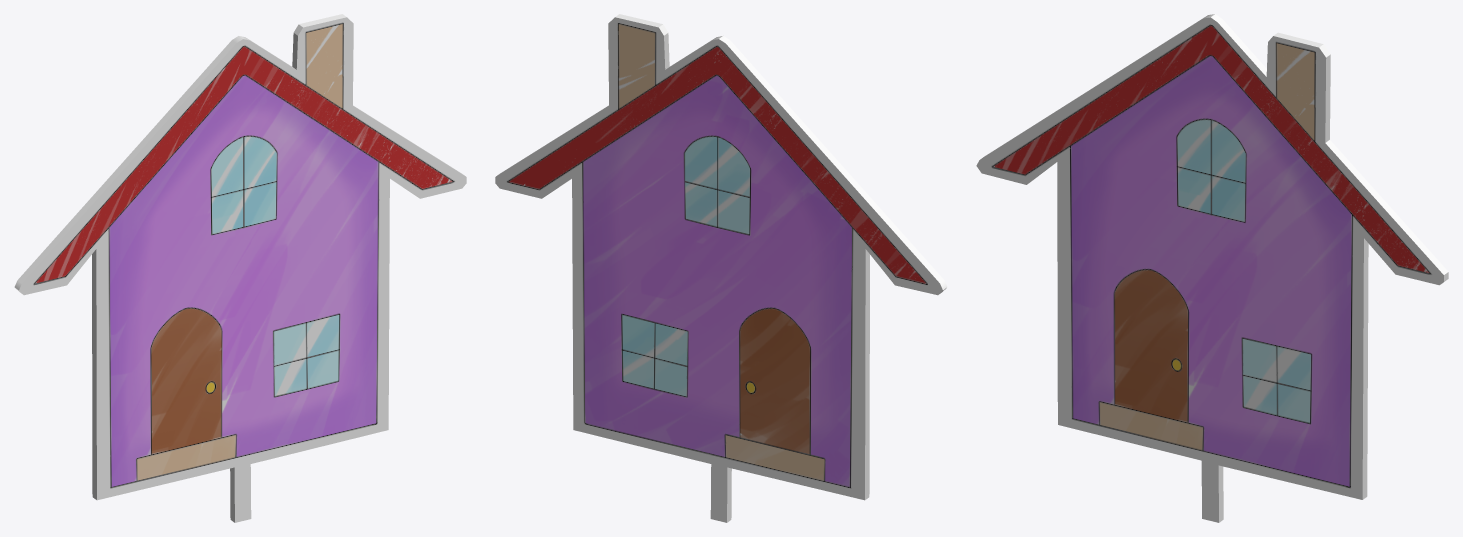
File: purpleHouse.fbx
The picture shows the model from 3 angles, left to right: view 1: azimuth 30°, elevation 25°; view 2: azimuth 150°, elevation 25°; view 3: azimuth 330°, elevation 25°; orthographic projection. The views are drawn at different scales.
Visible parts, largest first — view 1: house; view 2: house; view 3: house.
Boxes of the visible parts, x1,y1,x2,y2 form: house: [14, 14, 466, 522]; house: [495, 14, 947, 522]; house: [976, 14, 1448, 522].
Bounding box in the file's own units: 47.42 × 48.8 × 0.8179.
